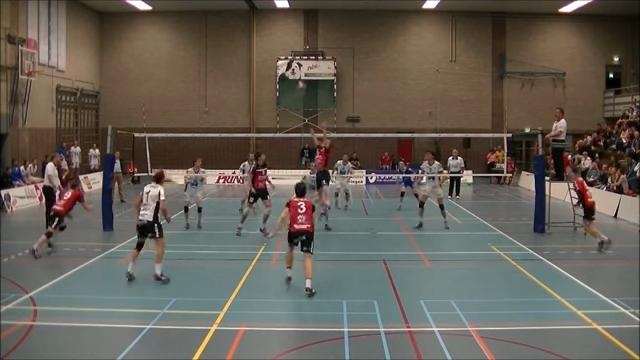alzata: (307, 118, 338, 220)
